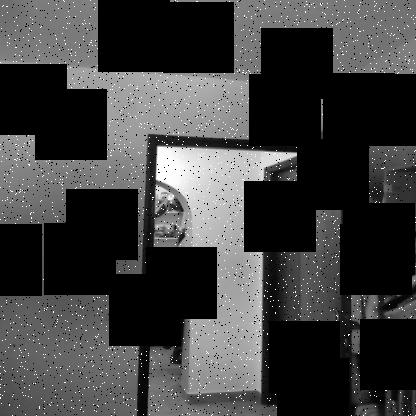Porte: (134, 111, 369, 415)
